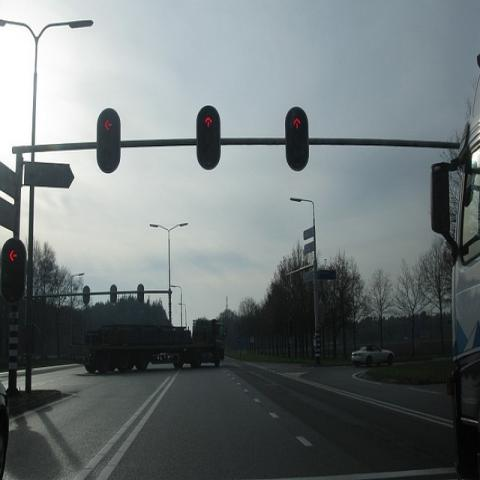car: (351, 344, 395, 368)
truck: (430, 52, 480, 476), (65, 319, 227, 374)
